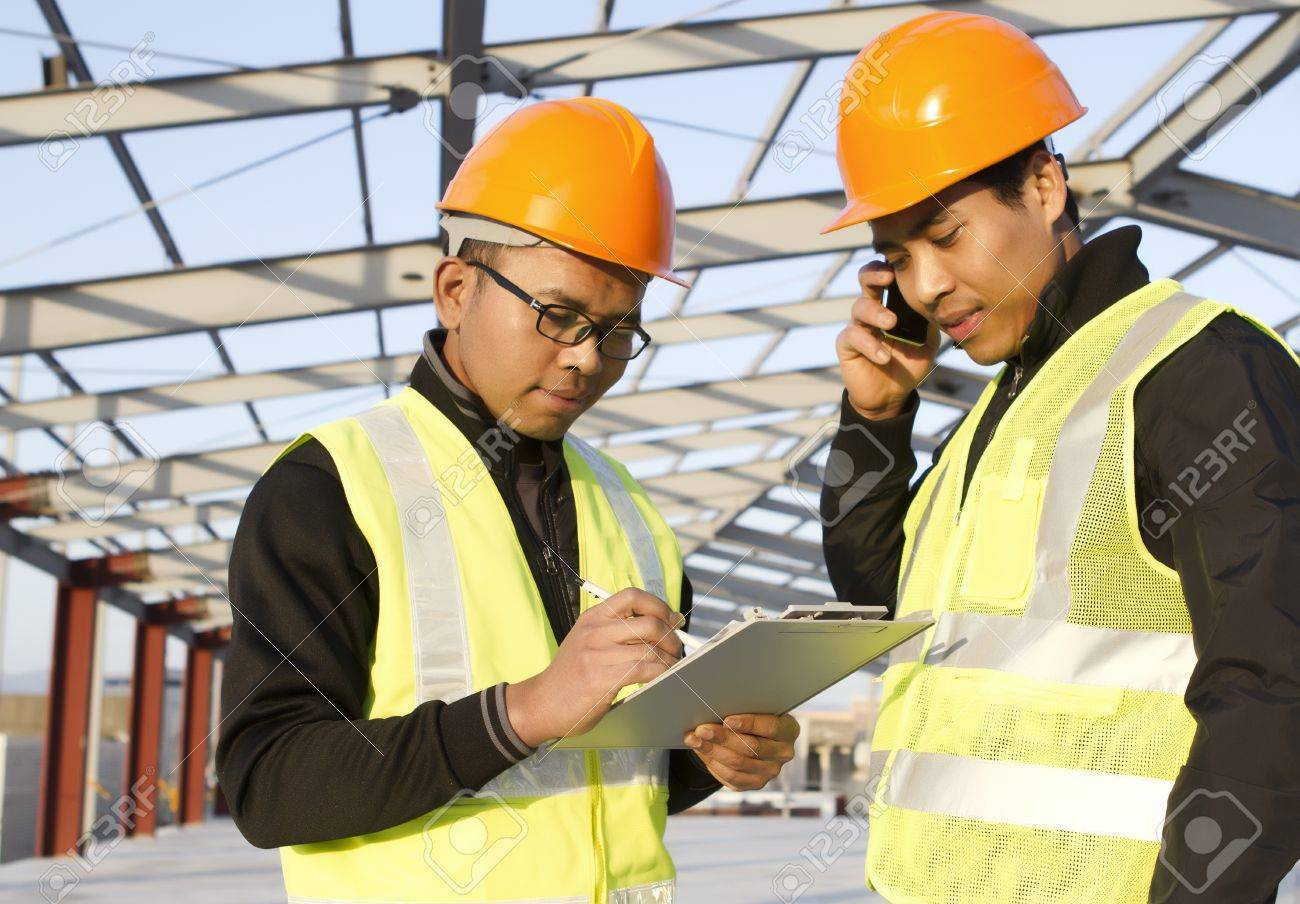casco: (816, 9, 1099, 240), (428, 92, 708, 306)
